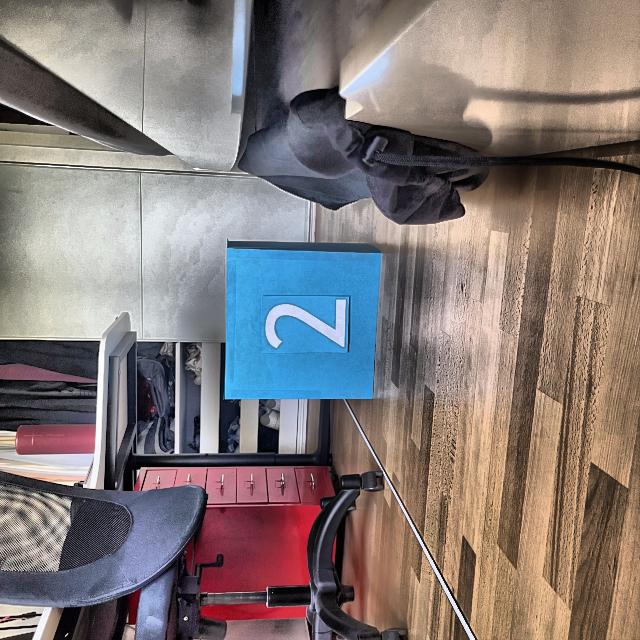blue box: (225, 239, 384, 402)
two: (264, 297, 349, 351)
